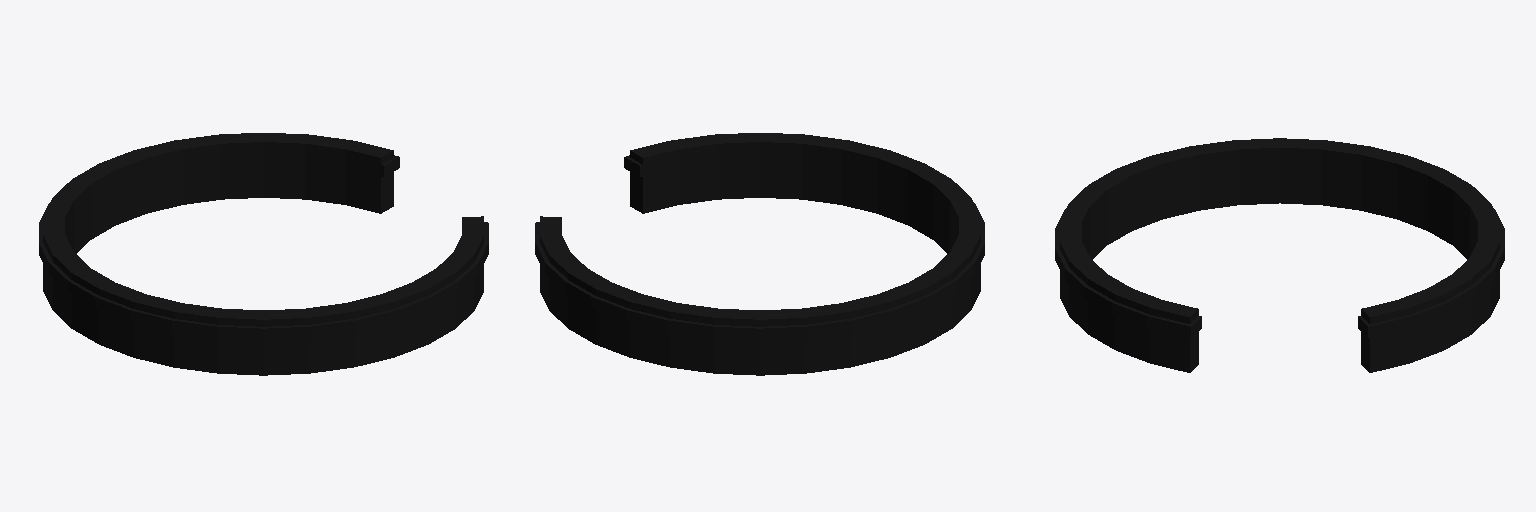
File: Desk_Larger.obj
The picture shows the model from 3 angles: view 1: azimuth 30°, elevation 25°; view 2: azimuth 150°, elevation 25°; view 3: azimuth 270°, elevation 25°; orthographic projection.
Parts seen in each view (by area): view 1: Spawn_Bar, Spawn_BarDetail2; view 2: Spawn_Bar, Spawn_BarDetail2; view 3: Spawn_Bar, Spawn_BarDetail2.
Part boxes in pixels (bbox=[...]): Spawn_Bar: bbox=[43, 133, 483, 375]; Spawn_BarDetail2: bbox=[39, 155, 488, 339]; Spawn_Bar: bbox=[540, 133, 980, 375]; Spawn_BarDetail2: bbox=[535, 155, 984, 339]; Spawn_Bar: bbox=[1060, 138, 1499, 372]; Spawn_BarDetail2: bbox=[1055, 209, 1504, 337].
Bounding box in the file's own units: 48.98 × 6.96 × 50.72.